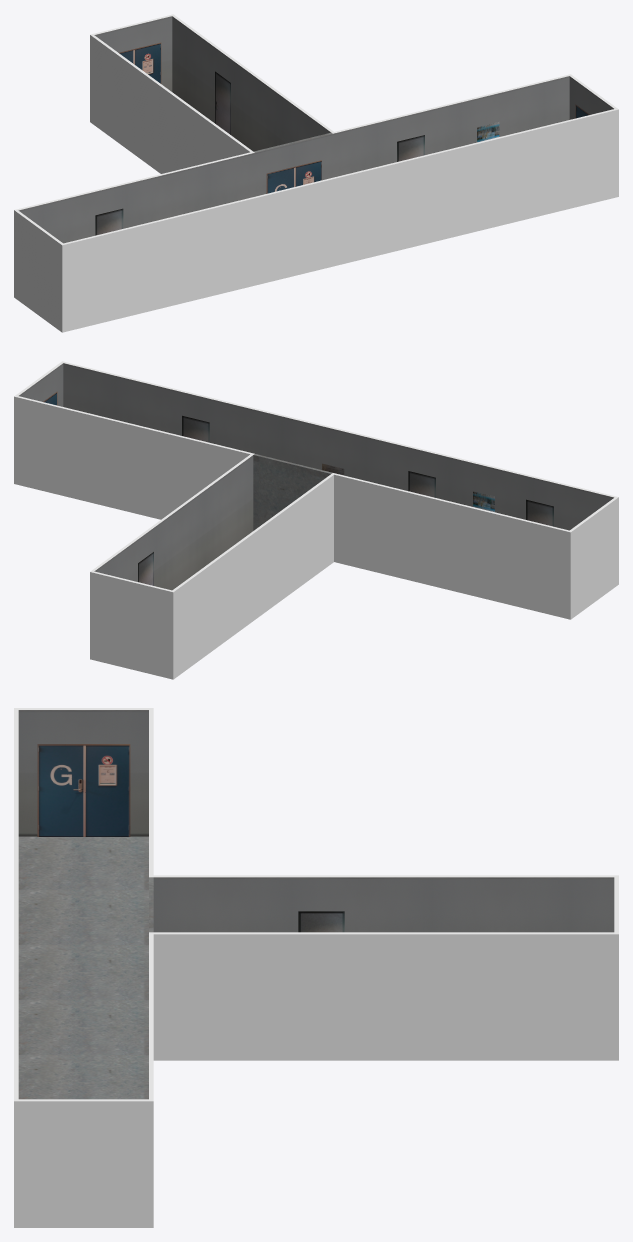
File: hallway_closed.dae
3 views of the same model, one above another, from view 1: azimuth 30°, elevation 25°; view 2: azimuth 150°, elevation 25°; view 3: azimuth 270°, elevation 25° (orthographic). The views are drawn at different scales.
Parts seen in each view (by area): view 1: SketchUp (×3), instance_13, instance_1, instance_9, instance_7, instance_6; view 2: SketchUp (×4), instance_5, instance_3, instance_4; view 3: SketchUp (×4), instance_0, instance_8.
Part boxes in pixels (x1,y1,x2,y2): SketchUp (×3): (14, 14, 618, 332); instance_13: (266, 160, 321, 193); instance_1: (119, 42, 161, 83); instance_9: (215, 71, 230, 134); instance_7: (95, 208, 123, 235); instance_6: (397, 135, 424, 161); SketchUp (×4): (14, 361, 618, 679); instance_5: (182, 415, 209, 442); instance_3: (526, 499, 553, 526); instance_4: (408, 471, 435, 497); SketchUp (×4): (14, 708, 618, 1227); instance_0: (37, 744, 130, 836); instance_8: (298, 911, 344, 932).
Bounding box in the file's own units: 787 × 512 × 118.
7 materials, 6 textured.
